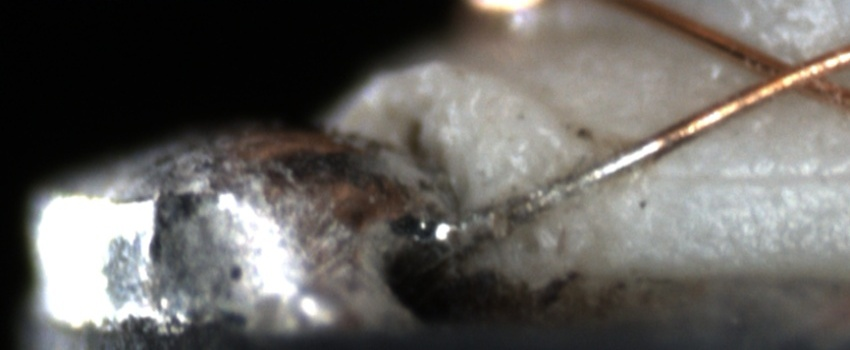CL: (743, 42, 840, 105)
DL: (637, 147, 850, 211)
TS: (464, 133, 673, 241)
TTCW: (449, 121, 680, 244)
